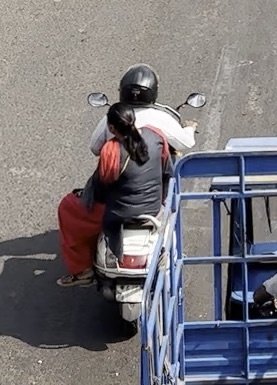BikeWithRider: (49, 58, 211, 339)
Helmet: (113, 59, 163, 111)
NoHelmet: (99, 97, 142, 148)
